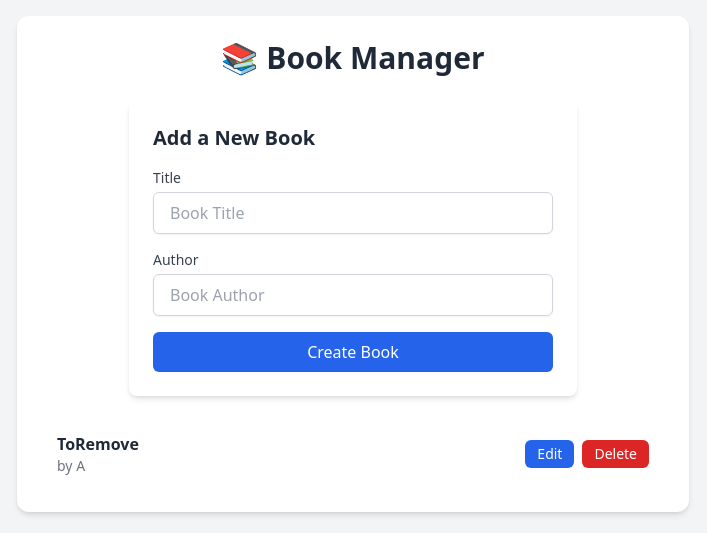
Scenario: Books CRUD using booksApi mock › deletes a book
Click the button "Delete": (616, 454) [582, 440, 649, 468]
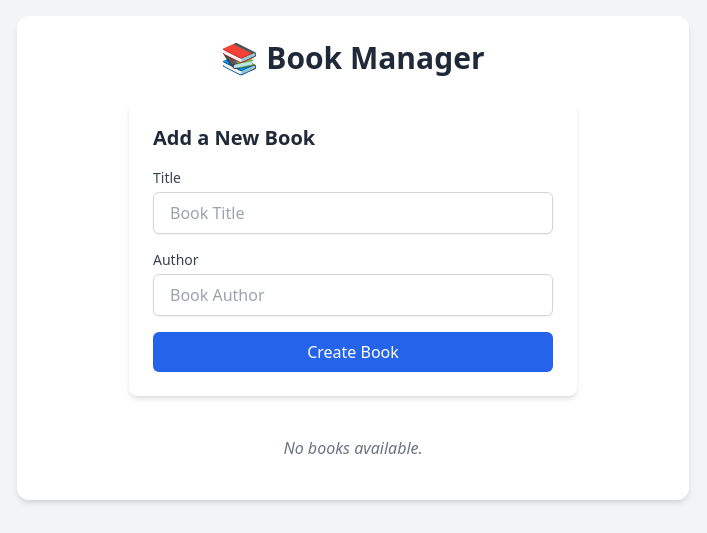
Result: the text "ToRemove" is gone
Result: the text "by A" is gone
